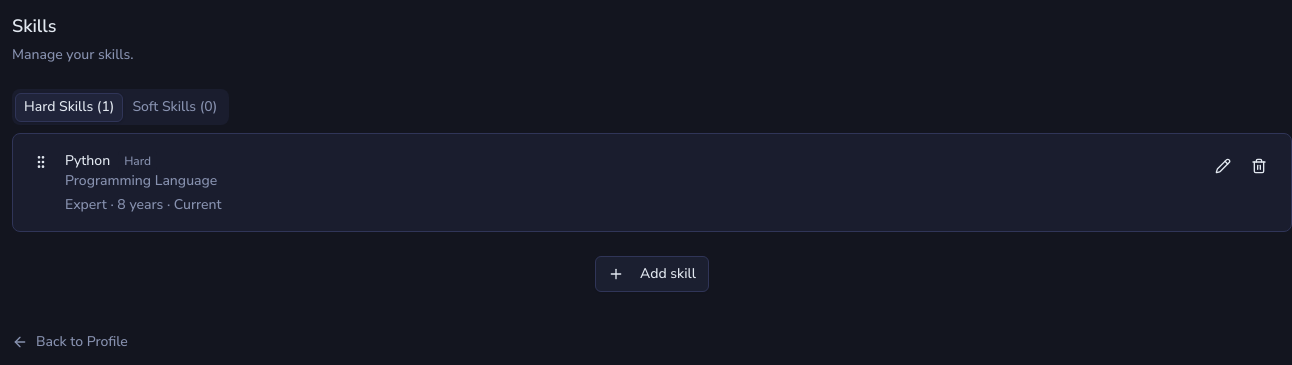
Scenario: SkillsEditor › tabs › shows empty state when tab has no entries
This screenshot has width=1292, height=365.
Click the tab "Soft Skills (0)". click: (175, 107)
box: x1=123 y1=92 x2=226 y2=122
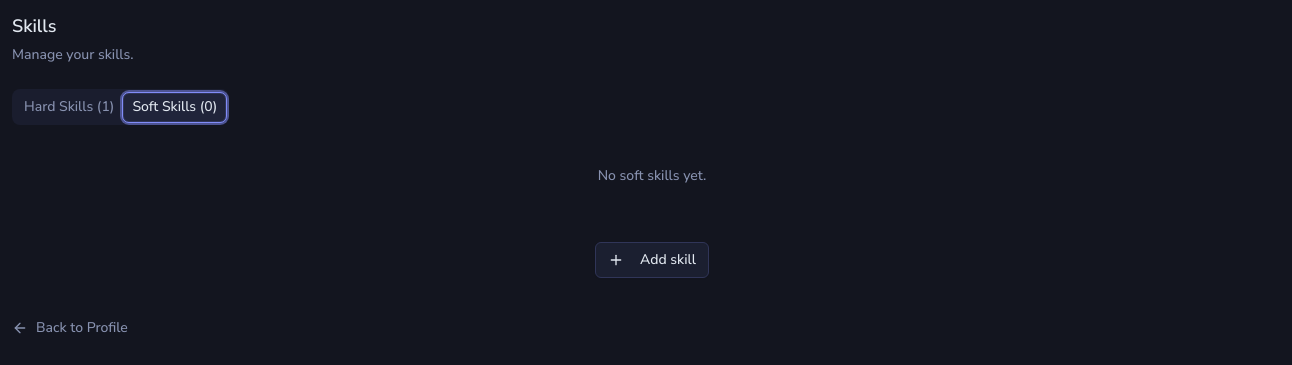
Now the text "No soft skills yet." is shown, box x1=598 y1=166 x2=706 y2=185
